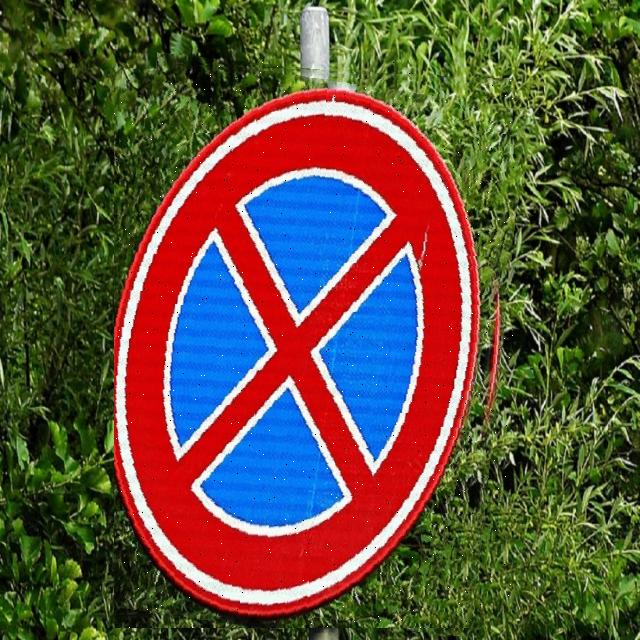no stopping: (114, 61, 516, 628)
